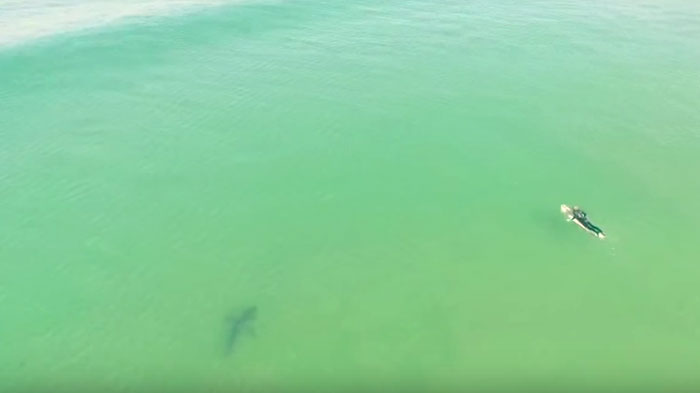shark: (214, 300, 262, 365)
surfer: (556, 201, 610, 243)
